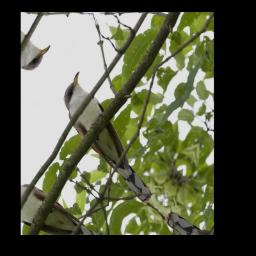Cuckoo: (48, 69, 177, 206)
